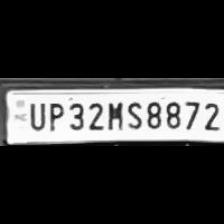2: (198, 100, 222, 132), (84, 98, 104, 132)
3: (65, 98, 85, 132)
7: (182, 98, 198, 130)
8: (143, 98, 163, 130), (162, 98, 182, 130)
M: (104, 98, 124, 130)
P: (44, 100, 64, 132)
S: (124, 98, 144, 130)
U: (24, 99, 46, 130)
